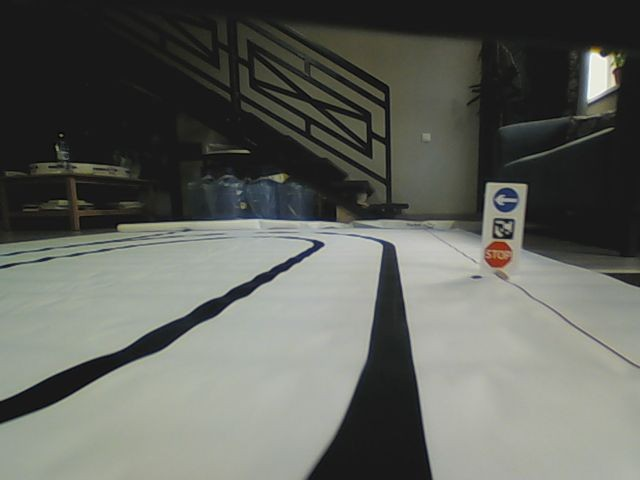Stop: (483, 240, 513, 269)
